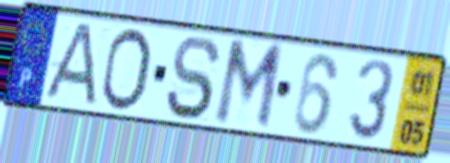3: (346, 57, 396, 144)
6: (291, 50, 342, 137)
A: (38, 21, 100, 109)
M: (210, 38, 287, 135)
O: (97, 25, 154, 114)
S: (162, 33, 224, 123)
